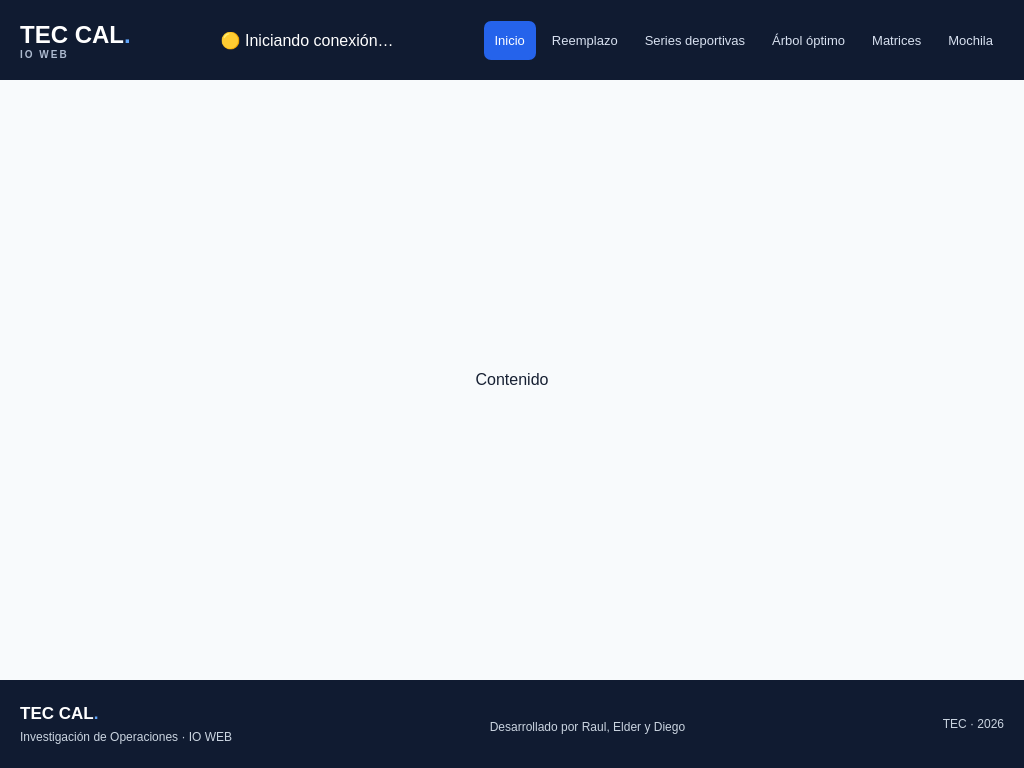
Scenario: Salud global › una respuesta de la ruta anterior no sustituye la comprobación nueva
Click the link "Matrices" at coordinates (897, 40), box [872,32,921,48]
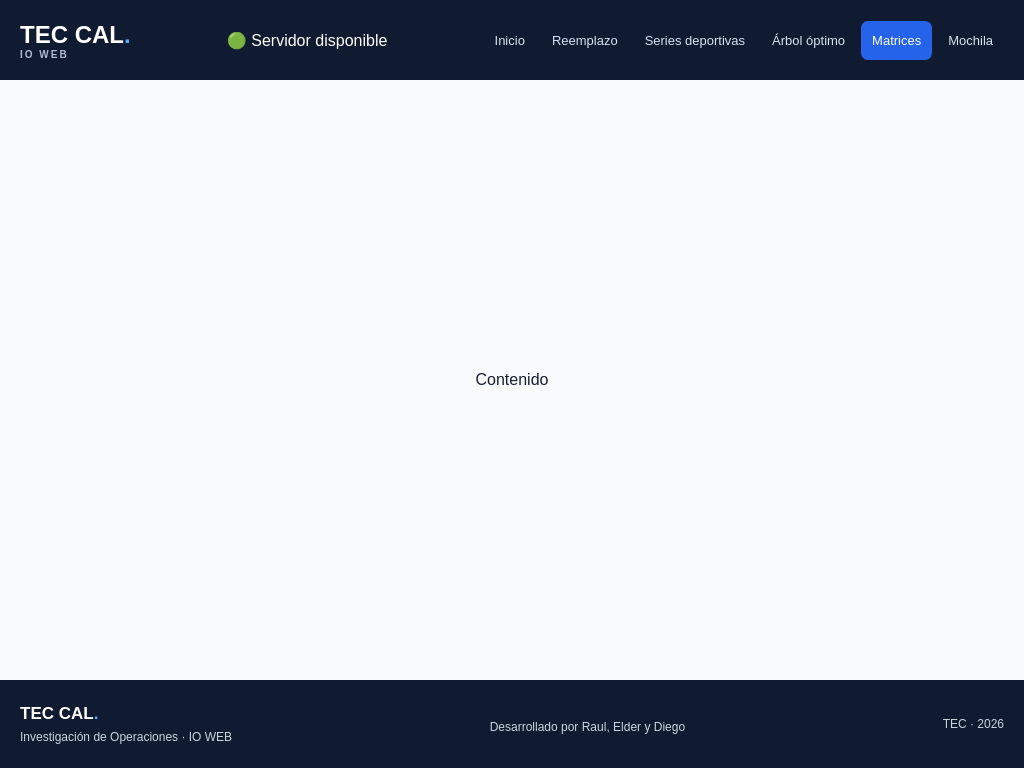
Now the text "🟢 Servidor disponible" is shown, box [227,30,387,50]
